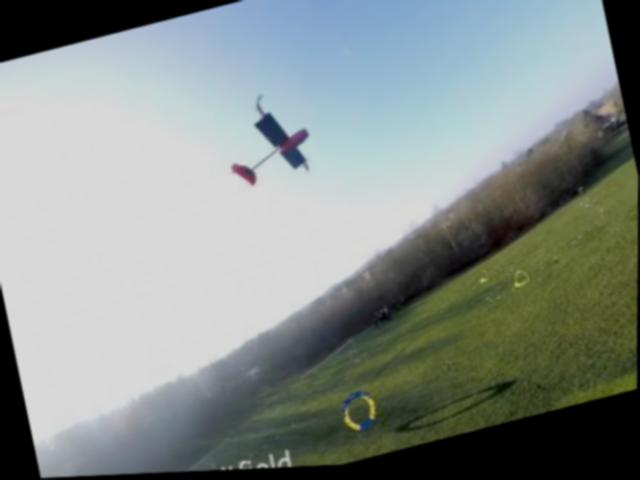uav: (208, 77, 331, 212)
